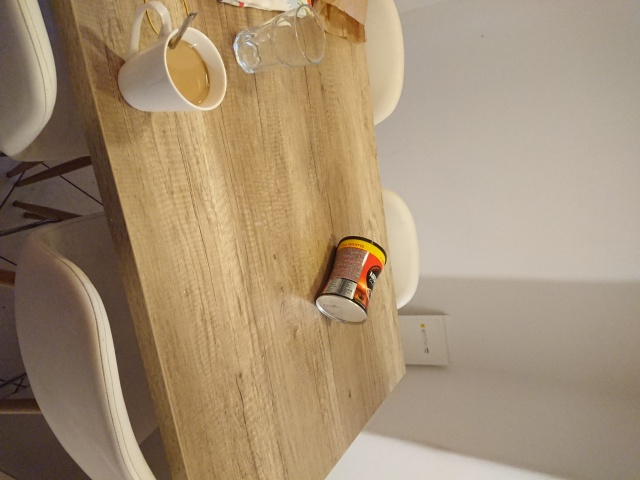Nescafe Classic 225g: (312, 233, 390, 327)
